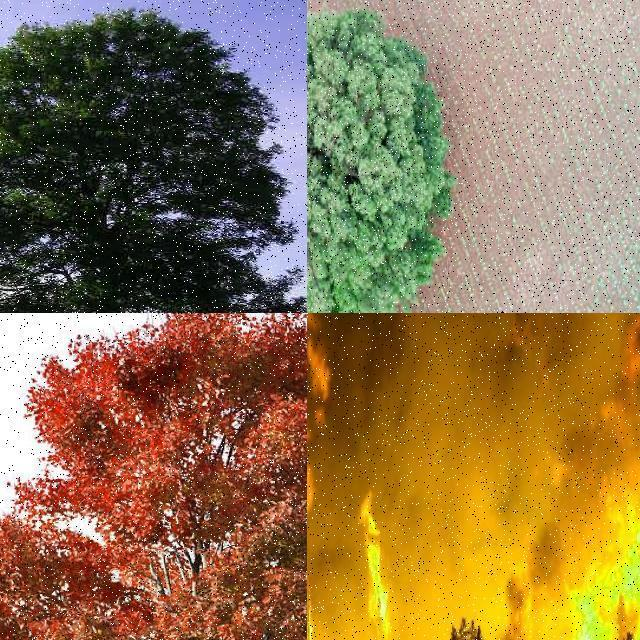tree: (1, 312, 308, 640), (1, 0, 308, 312), (307, 0, 449, 312)
